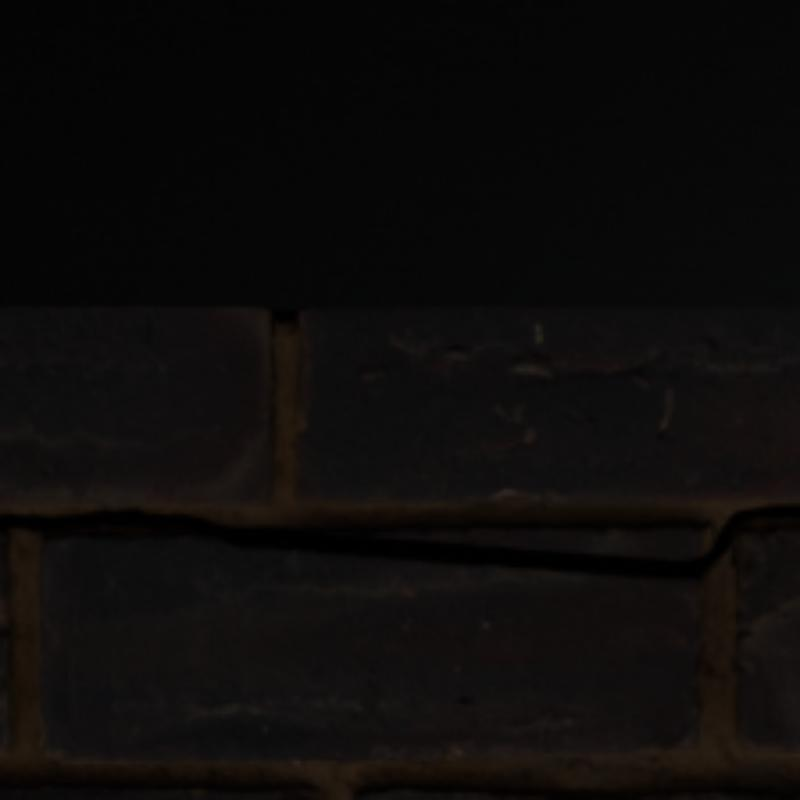pothole: (0, 504, 796, 579)
